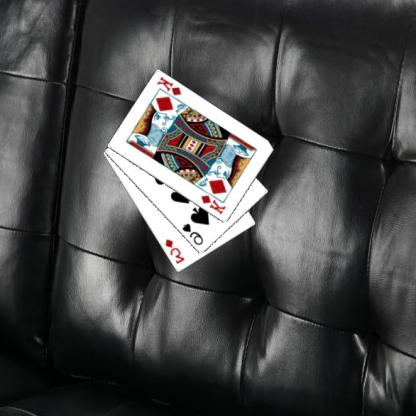3D: (164, 236, 188, 265)
9S: (181, 220, 206, 246)
KD: (200, 192, 229, 216), (156, 74, 185, 97)
